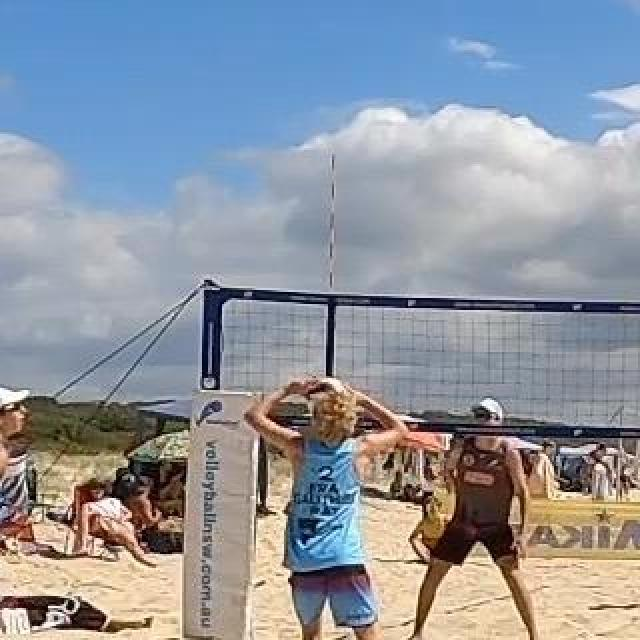volleyball: (304, 376, 346, 416)
